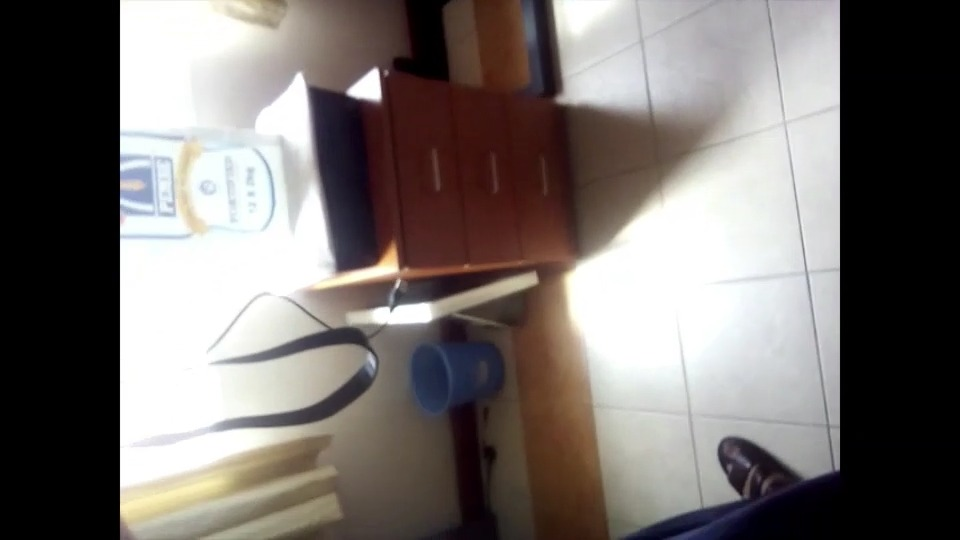wheat_flour_blue_label: (117, 134, 292, 271)
